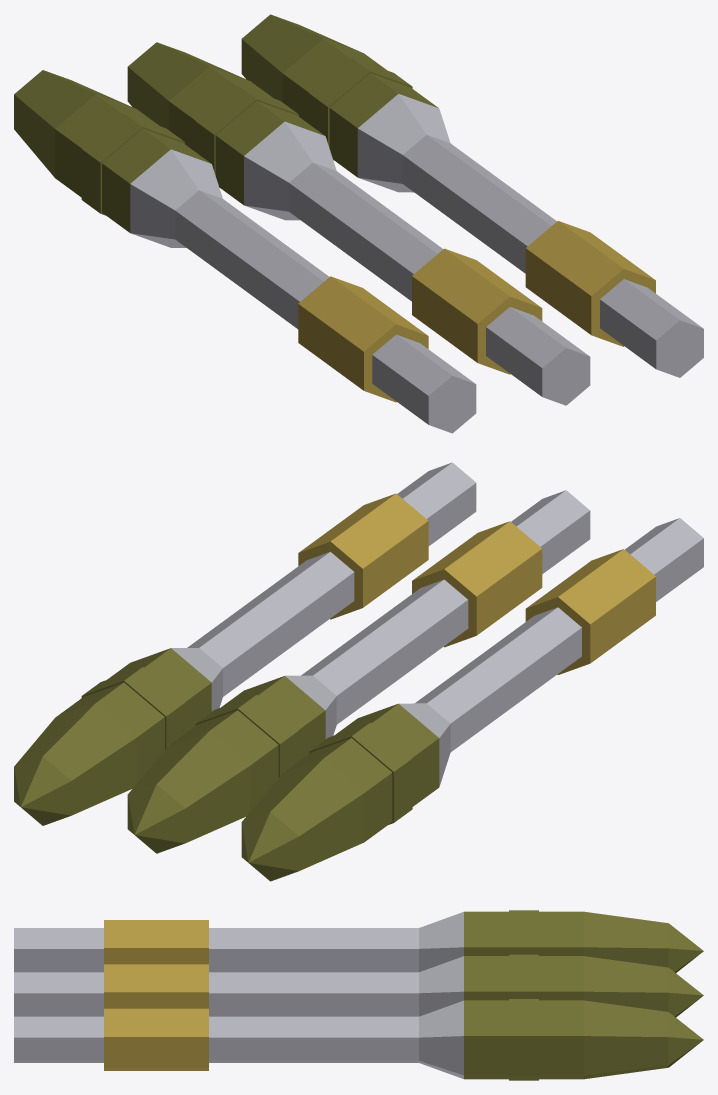
File: ce_ammo2_spg9_frag_b.obj
3 views of the same model, one above another, from view 1: azimuth 30°, elevation 25°; view 2: azimuth 150°, elevation 25°; view 3: azimuth 270°, elevation 25° (orthographic). The views are drawn at different scales.
Parts seen in each view (by area): view 1: ce_ammo2_spg9_frag_b_20, ce_ammo2_spg9_frag_b_2, ce_ammo2_spg9_frag_b_11, ce_ammo2_spg9_frag_b_1, ce_ammo2_spg9_frag_b_19, ce_ammo2_spg9_frag_b_10, ce_ammo2_spg9_frag_b_0, ce_ammo2_spg9_frag_b_9, ce_ammo2_spg9_frag_b_18, ce_ammo2_spg9_frag_b_21, ce_ammo2_spg9_frag_b_3, ce_ammo2_spg9_frag_b_12 (+12 smaller); view 2: ce_ammo2_spg9_frag_b_11, ce_ammo2_spg9_frag_b_2, ce_ammo2_spg9_frag_b_20, ce_ammo2_spg9_frag_b_19, ce_ammo2_spg9_frag_b_10, ce_ammo2_spg9_frag_b_1, ce_ammo2_spg9_frag_b_7, ce_ammo2_spg9_frag_b_16, ce_ammo2_spg9_frag_b_25, ce_ammo2_spg9_frag_b_6, ce_ammo2_spg9_frag_b_18, ce_ammo2_spg9_frag_b_9 (+15 smaller); view 3: ce_ammo2_spg9_frag_b_20, ce_ammo2_spg9_frag_b_2, ce_ammo2_spg9_frag_b_11, ce_ammo2_spg9_frag_b_19, ce_ammo2_spg9_frag_b_25, ce_ammo2_spg9_frag_b_1, ce_ammo2_spg9_frag_b_10, ce_ammo2_spg9_frag_b_18, ce_ammo2_spg9_frag_b_0, ce_ammo2_spg9_frag_b_9, ce_ammo2_spg9_frag_b_7, ce_ammo2_spg9_frag_b_16 (+15 smaller).
Boxes of the visible parts, x1,y1,x2,y2 form: ce_ammo2_spg9_frag_b_20: [402, 135, 556, 273]; ce_ammo2_spg9_frag_b_2: [175, 190, 328, 328]; ce_ammo2_spg9_frag_b_11: [289, 162, 442, 301]; ce_ammo2_spg9_frag_b_1: [298, 276, 428, 402]; ce_ammo2_spg9_frag_b_19: [525, 221, 655, 346]; ce_ammo2_spg9_frag_b_10: [412, 248, 542, 374]; ce_ammo2_spg9_frag_b_0: [372, 334, 476, 433]; ce_ammo2_spg9_frag_b_9: [486, 307, 590, 405]; ce_ammo2_spg9_frag_b_18: [600, 279, 703, 377]; ce_ammo2_spg9_frag_b_21: [357, 94, 450, 192]; ce_ammo2_spg9_frag_b_3: [130, 149, 222, 247]; ce_ammo2_spg9_frag_b_12: [244, 121, 336, 220]; ce_ammo2_spg9_frag_b_11: [301, 579, 468, 724]; ce_ammo2_spg9_frag_b_2: [415, 607, 581, 751]; ce_ammo2_spg9_frag_b_20: [187, 552, 354, 696]; ce_ammo2_spg9_frag_b_19: [298, 493, 428, 619]; ce_ammo2_spg9_frag_b_10: [412, 521, 542, 647]; ce_ammo2_spg9_frag_b_1: [525, 549, 655, 674]; ce_ammo2_spg9_frag_b_7: [242, 758, 364, 870]; ce_ammo2_spg9_frag_b_16: [128, 731, 250, 843]; ce_ammo2_spg9_frag_b_25: [14, 703, 136, 815]; ce_ammo2_spg9_frag_b_6: [283, 738, 392, 841]; ce_ammo2_spg9_frag_b_18: [397, 462, 476, 545]; ce_ammo2_spg9_frag_b_9: [511, 490, 590, 573]; ce_ammo2_spg9_frag_b_20: [209, 1016, 418, 1062]; ce_ammo2_spg9_frag_b_2: [209, 928, 418, 972]; ce_ammo2_spg9_frag_b_11: [209, 972, 418, 1016]; ce_ammo2_spg9_frag_b_19: [104, 1008, 208, 1070]; ce_ammo2_spg9_frag_b_25: [584, 1000, 668, 1079]; ce_ammo2_spg9_frag_b_1: [104, 920, 208, 964]; ce_ammo2_spg9_frag_b_10: [104, 964, 208, 1008]; ce_ammo2_spg9_frag_b_18: [14, 1016, 103, 1062]; ce_ammo2_spg9_frag_b_0: [14, 928, 103, 972]; ce_ammo2_spg9_frag_b_9: [14, 972, 103, 1016]; ce_ammo2_spg9_frag_b_7: [584, 911, 668, 967]; ce_ammo2_spg9_frag_b_16: [584, 956, 668, 1011].
Bounding box in the file's own units: 0.384 × 0.12 × 0.92.
